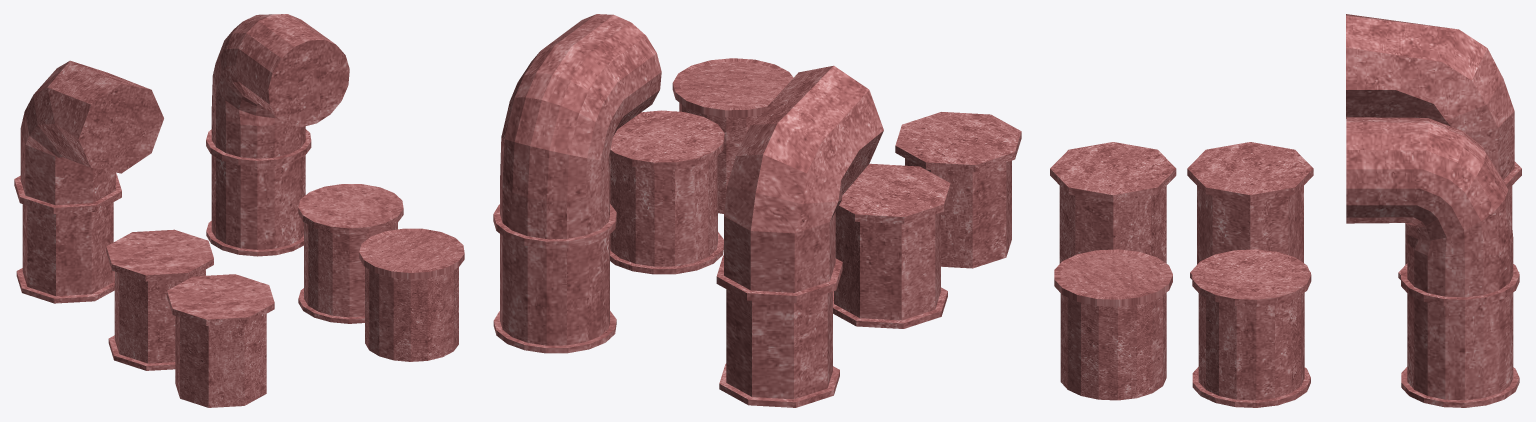
File: tubes.fbx
The picture shows the model from 3 angles, left to right: view 1: azimuth 30°, elevation 25°; view 2: azimuth 150°, elevation 25°; view 3: azimuth 270°, elevation 25°; orthographic projection. The views are drawn at different scales.
Visible parts, largest first — view 1: Cylinder.002, Cylinder.004, Cylinder, Cylinder.006, Cylinder.005, Cylinder.001; view 2: Cylinder.002, Cylinder.004, Cylinder.001, Cylinder.005, Cylinder.006, Cylinder; view 3: Cylinder.002, Cylinder.004, Cylinder.001, Cylinder, Cylinder.006, Cylinder.005.
Boxes of the visible parts, bbox=[...] form: Cylinder.002: bbox=[206, 14, 349, 256]; Cylinder.004: bbox=[14, 60, 163, 303]; Cylinder: bbox=[359, 228, 464, 361]; Cylinder.006: bbox=[167, 274, 274, 407]; Cylinder.005: bbox=[106, 229, 213, 370]; Cylinder.001: bbox=[298, 184, 403, 323]; Cylinder.002: bbox=[493, 14, 661, 353]; Cylinder.004: bbox=[716, 65, 883, 407]; Cylinder.001: bbox=[608, 110, 724, 274]; Cylinder.005: bbox=[833, 163, 950, 328]; Cylinder.006: bbox=[895, 112, 1021, 268]; Cylinder: bbox=[672, 58, 793, 213]; Cylinder.002: bbox=[1346, 117, 1519, 407]; Cylinder.004: bbox=[1346, 14, 1521, 279]; Cylinder.001: bbox=[1192, 249, 1311, 407]; Cylinder: bbox=[1054, 249, 1172, 400]; Cylinder.006: bbox=[1050, 142, 1176, 263]; Cylinder.005: bbox=[1187, 142, 1313, 279].
Bounding box in the file's own units: 698 × 545 × 883.
